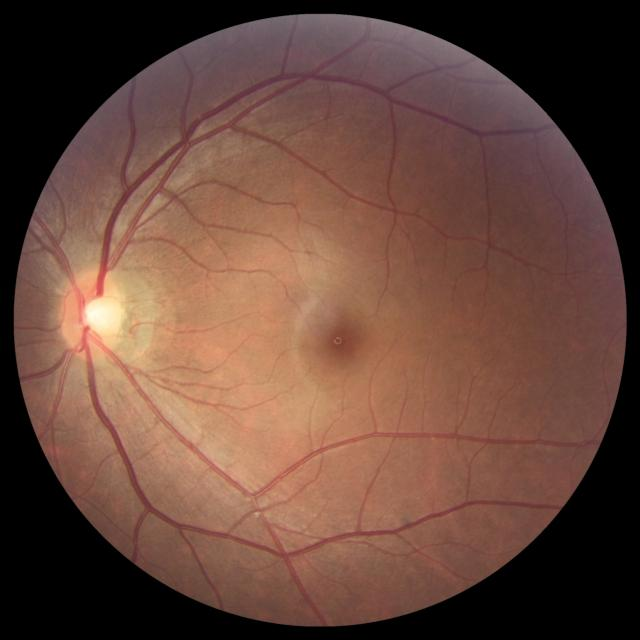OC: (81, 297, 118, 334)
OD: (59, 267, 125, 360)
